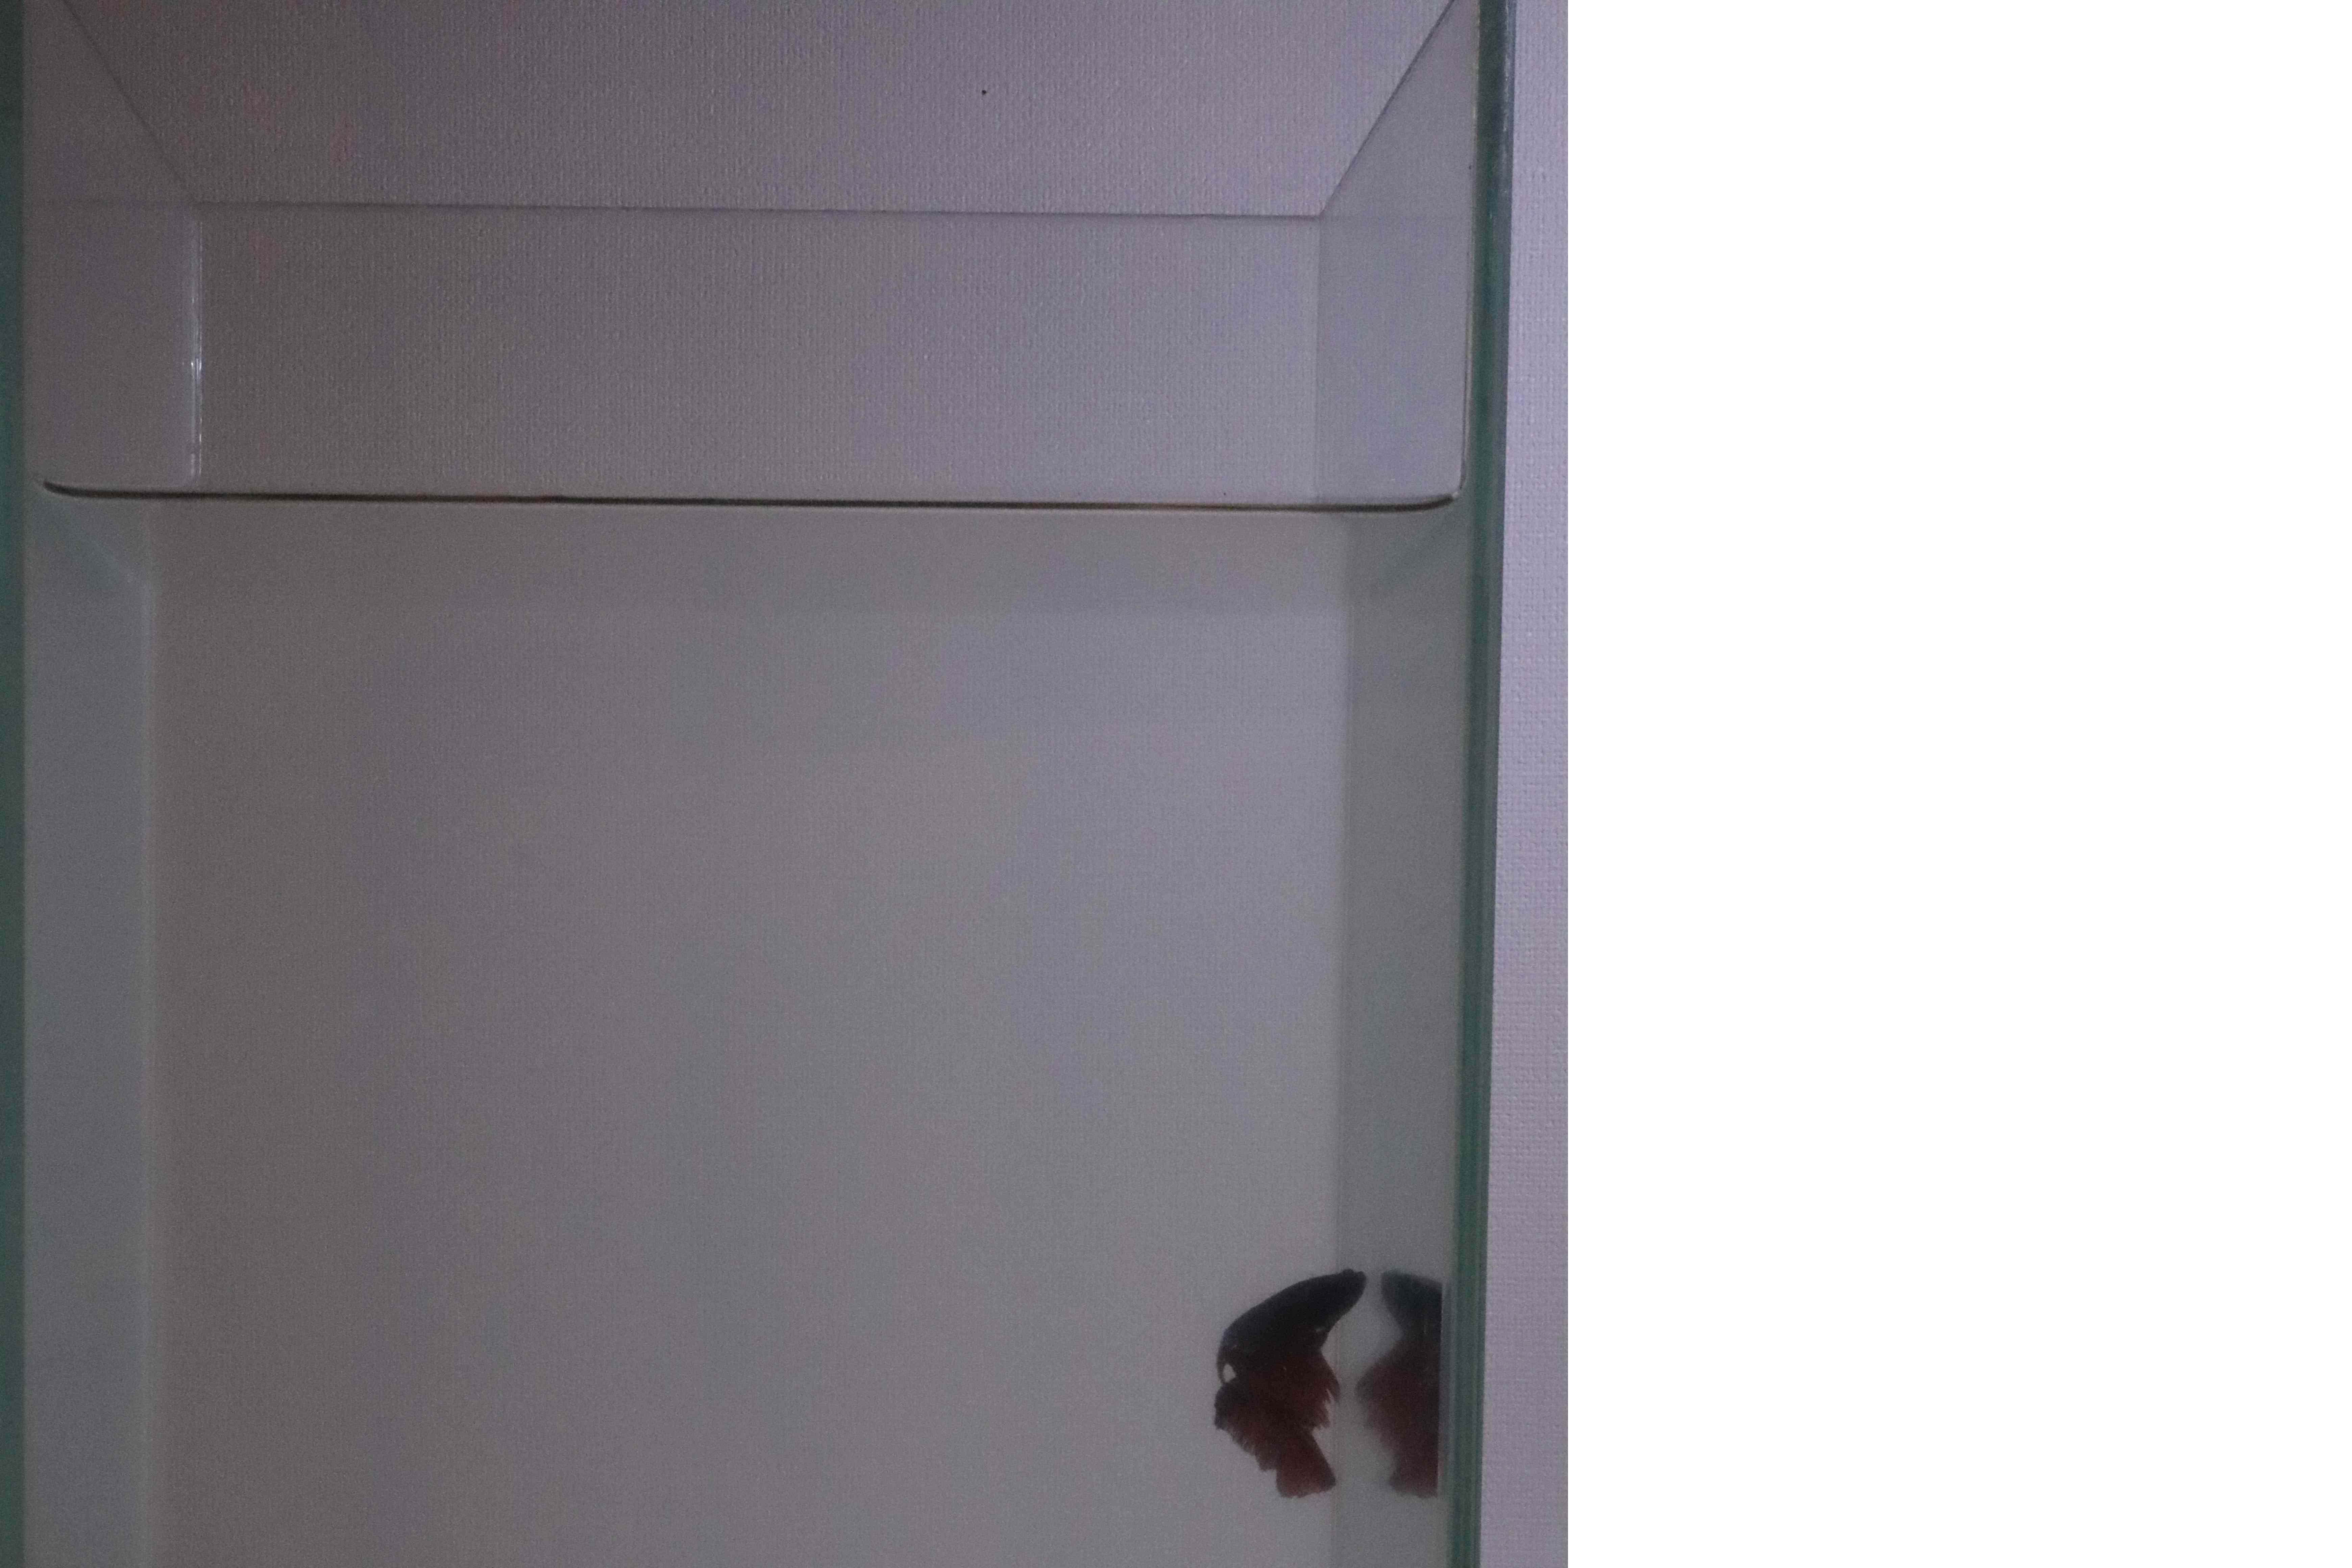fish: (1183, 1248, 1376, 1498)
